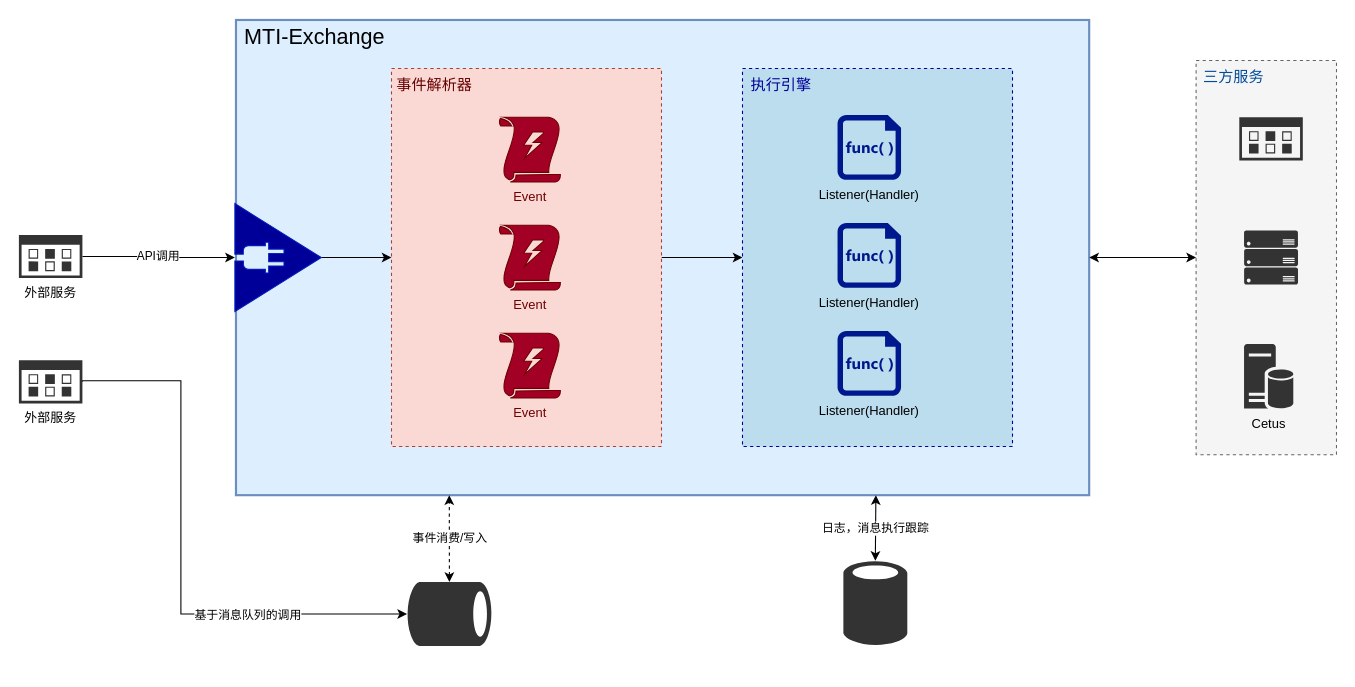
Some shapes in this 1355 by 687 pixel diagram are drawn without their labels. Here are the shapes that lost their labels. From the top down, the centre of each, then its label:
At point (1270, 138): "AI/App".
At point (277, 257): "API接口".
At point (1271, 257): "PACS".
At point (449, 613): "消息队列".
At point (875, 602): "数据库".
